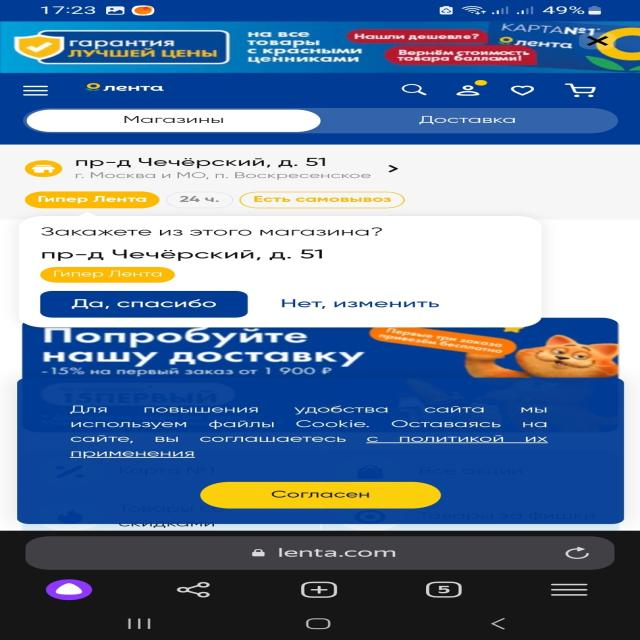button: (195, 481, 441, 509), (39, 290, 252, 318), (265, 288, 450, 318), (573, 33, 621, 51)
site: (17, 380, 624, 524), (20, 216, 540, 326), (0, 23, 640, 72)
